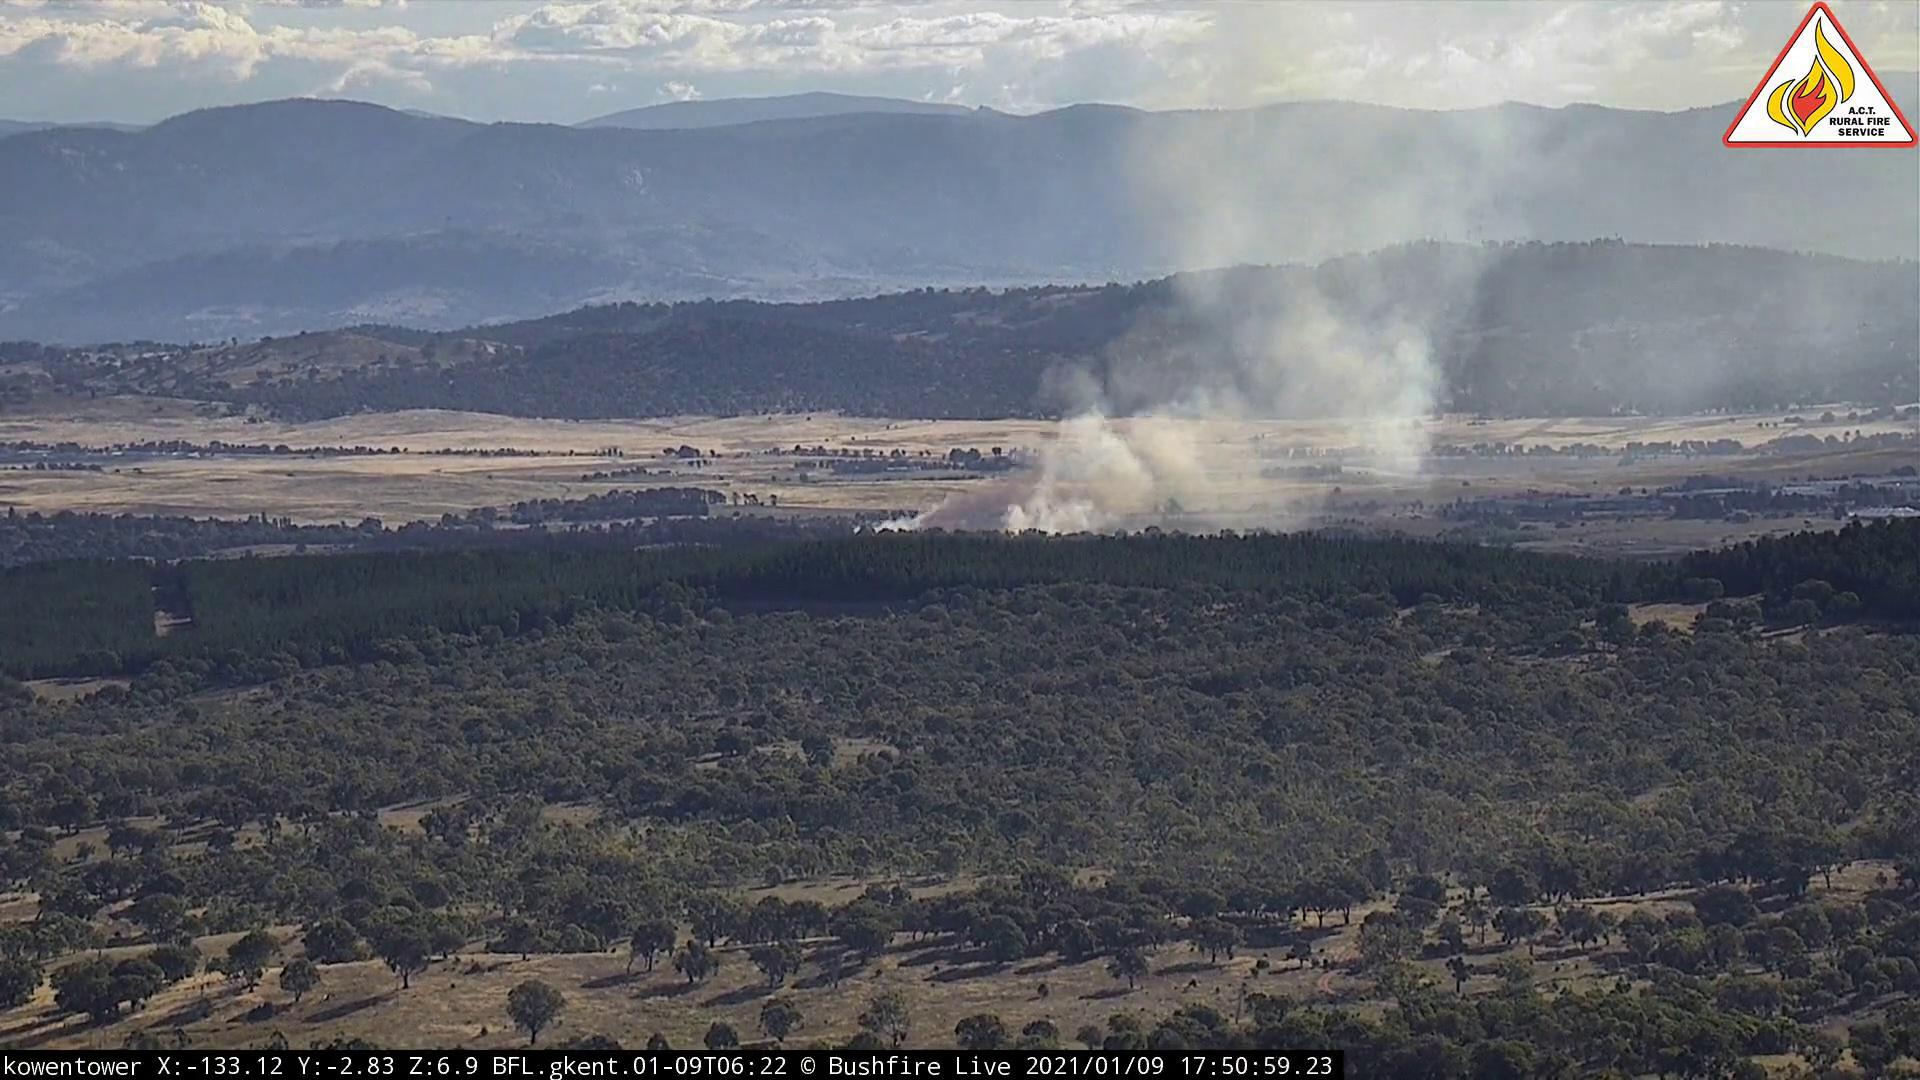Smoke: (876, 3, 1717, 546)
